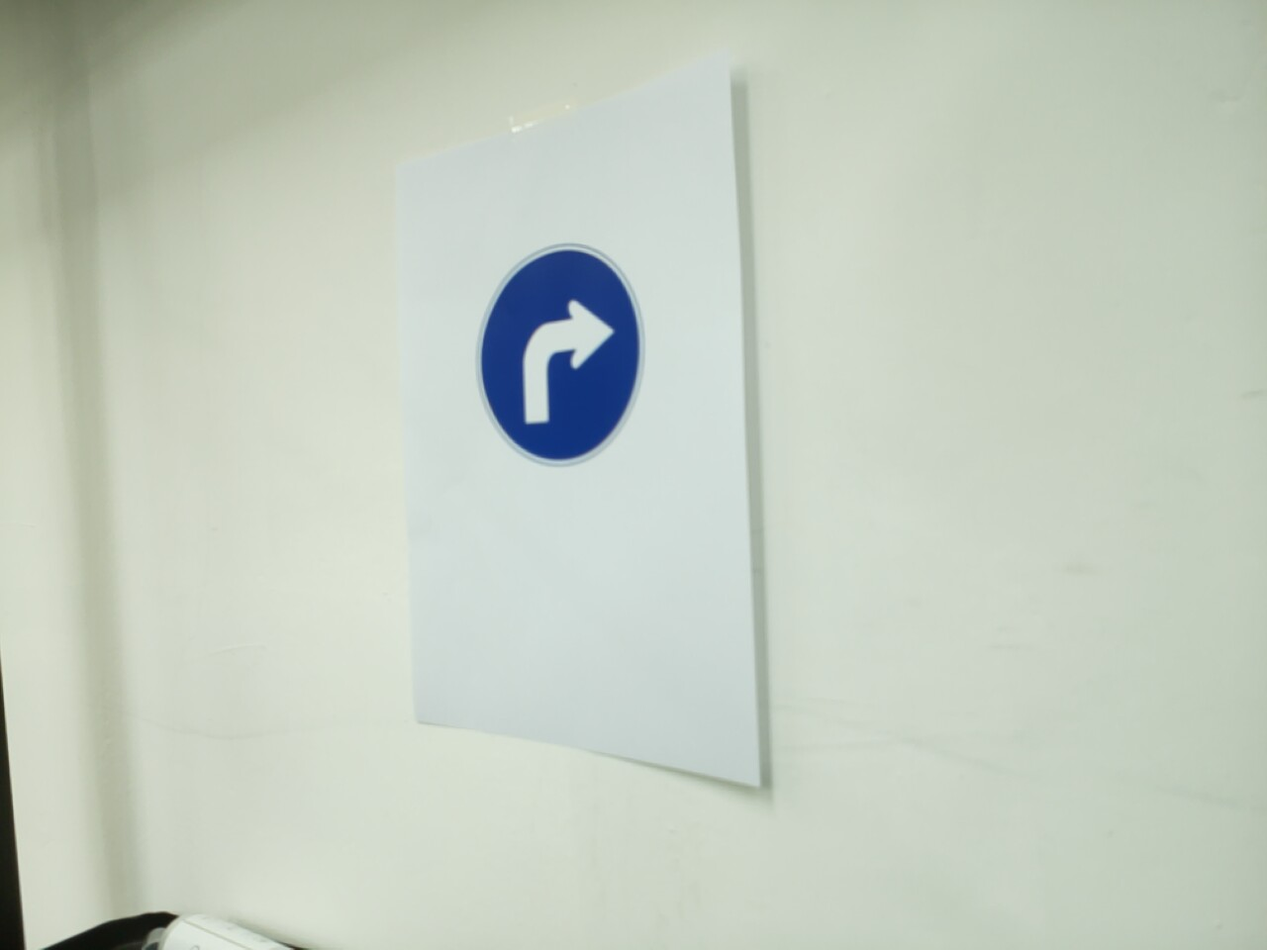right_turn: (474, 241, 646, 468)
